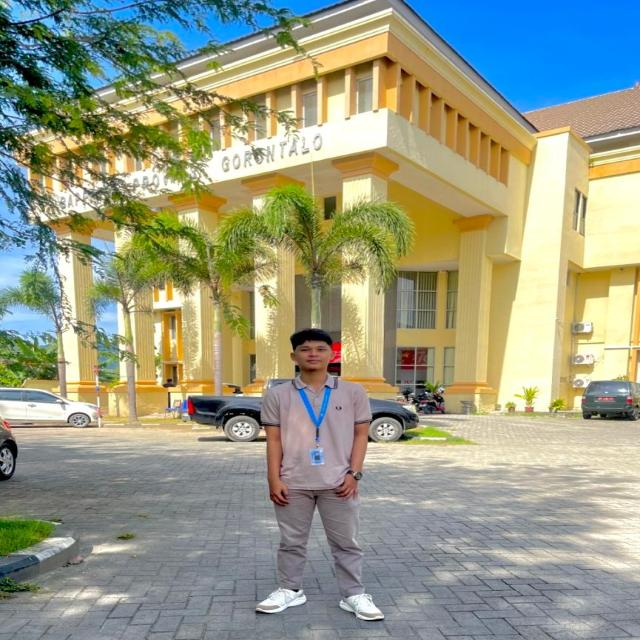nohelmet: (285, 324, 343, 379)
